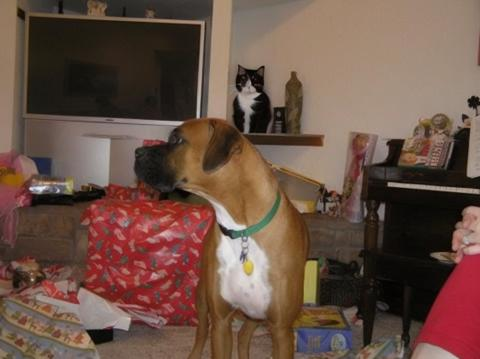cat: (230, 66, 272, 132)
dog: (135, 118, 311, 359)
tvmonitor: (26, 12, 206, 128)
